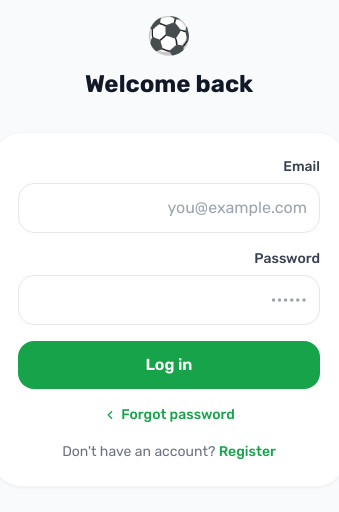
Test: LoginLive › shows auth errors and lets the form recover
Type "player@example.com" into the field labelled "Email" at (169, 208), box x1=18 y1=183 x2=320 y2=233
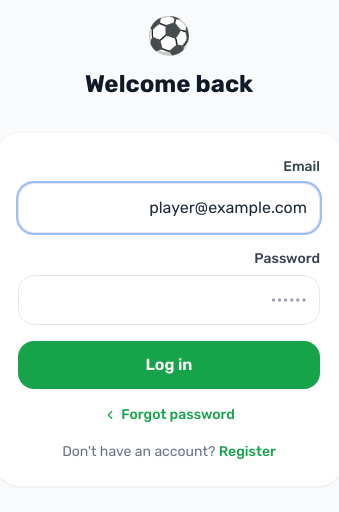
Type "wrong-password" into the password field labelled "Password" at (169, 300), box x1=18 y1=275 x2=320 y2=325
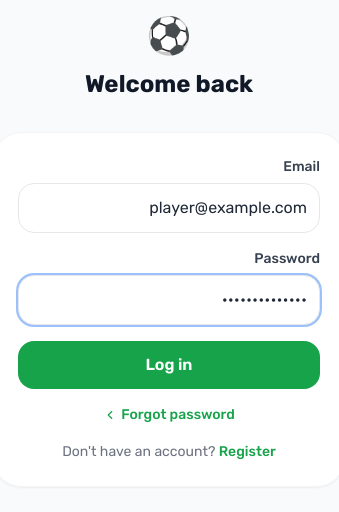
Click the button "Log in" at (169, 365), box x1=18 y1=341 x2=320 y2=389
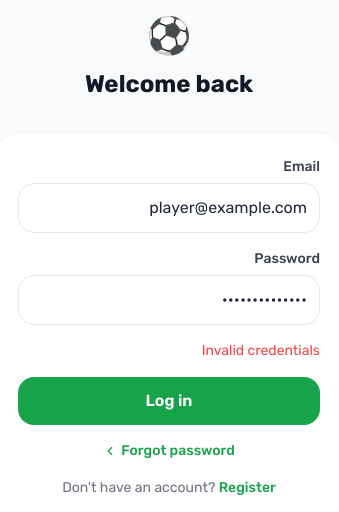
Expected: the button "Log in" is enabled, x1=18 y1=377 x2=320 y2=425
Expected: the text "Invalid credentials" is shown, x1=202 y1=342 x2=320 y2=359
